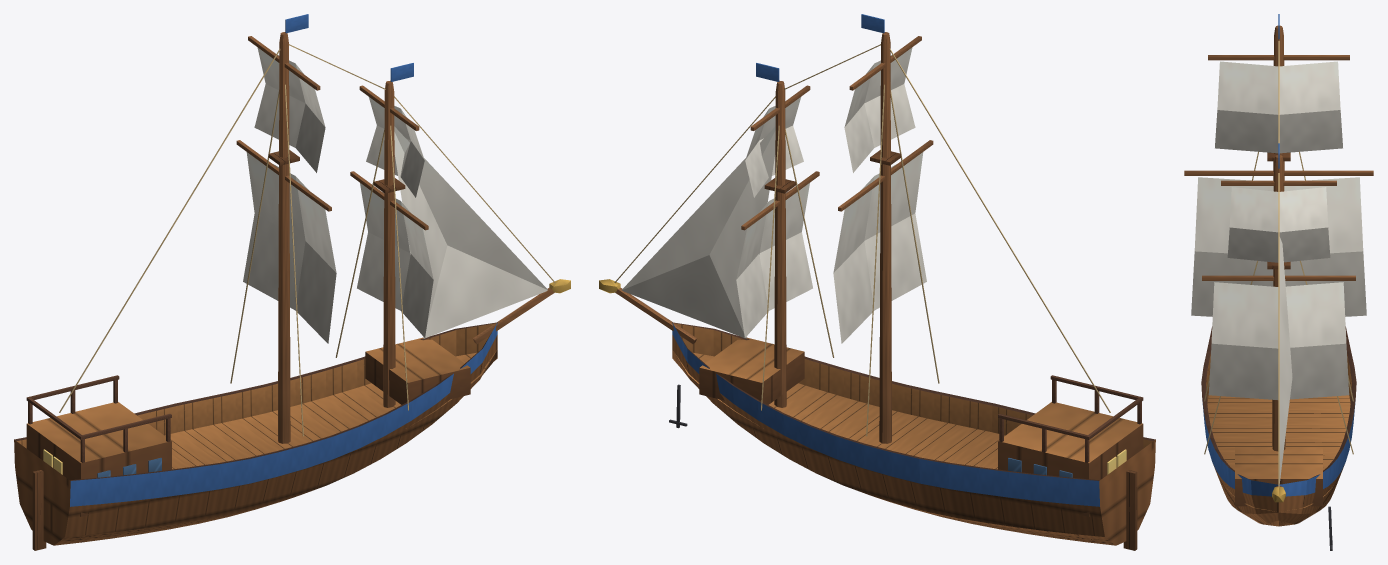
The model's file is boat_ship_01.glb.
3 views of the same model, side by side, from view 1: azimuth 30°, elevation 25°; view 2: azimuth 150°, elevation 25°; view 3: azimuth 270°, elevation 25° (orthographic). The views are drawn at different scales.
Parts seen in each view (by area): view 1: boat_ship_01; view 2: boat_ship_01; view 3: boat_ship_01.
Part boxes in pixels (x1,y1,x2,y2): boat_ship_01: (14, 14, 570, 550); boat_ship_01: (599, 14, 1155, 550); boat_ship_01: (1184, 14, 1373, 550).
Size of the model in its own units: 18.88 by 15.84 by 5.6.
1 material, 1 textured.
